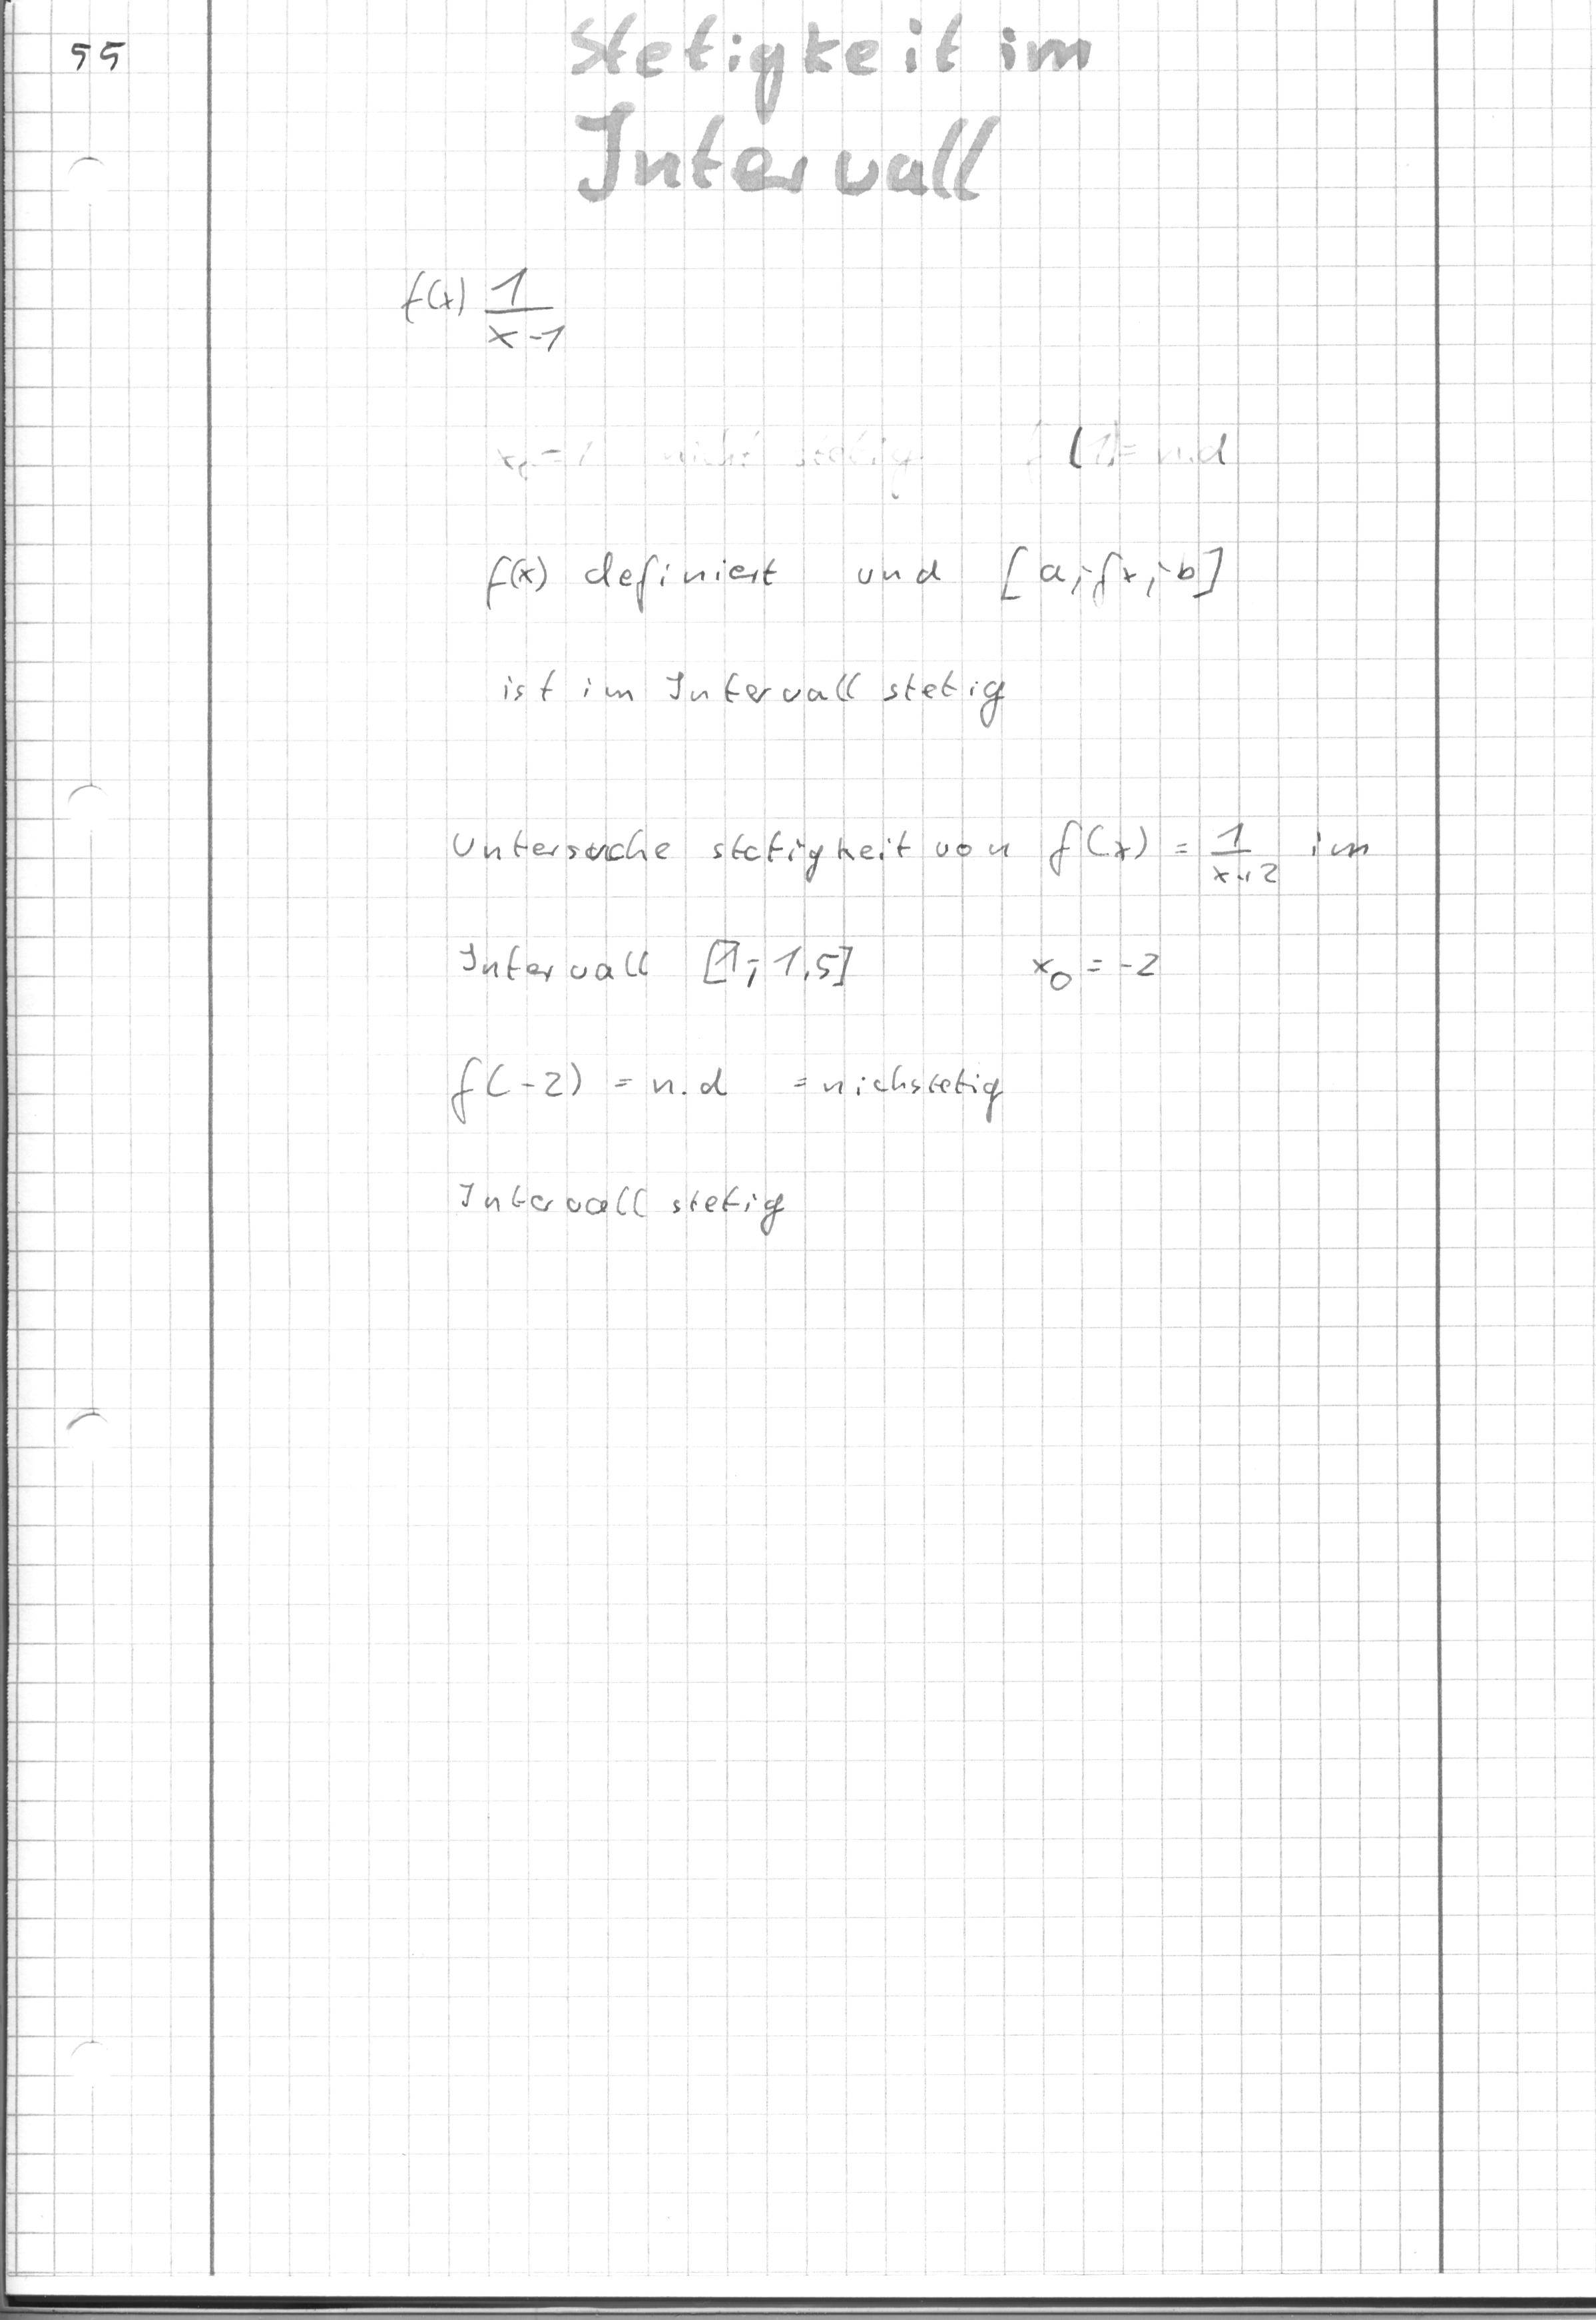word: (441, 809, 1372, 1005), (479, 539, 1229, 737), (443, 1046, 1017, 1261), (380, 236, 601, 379)
